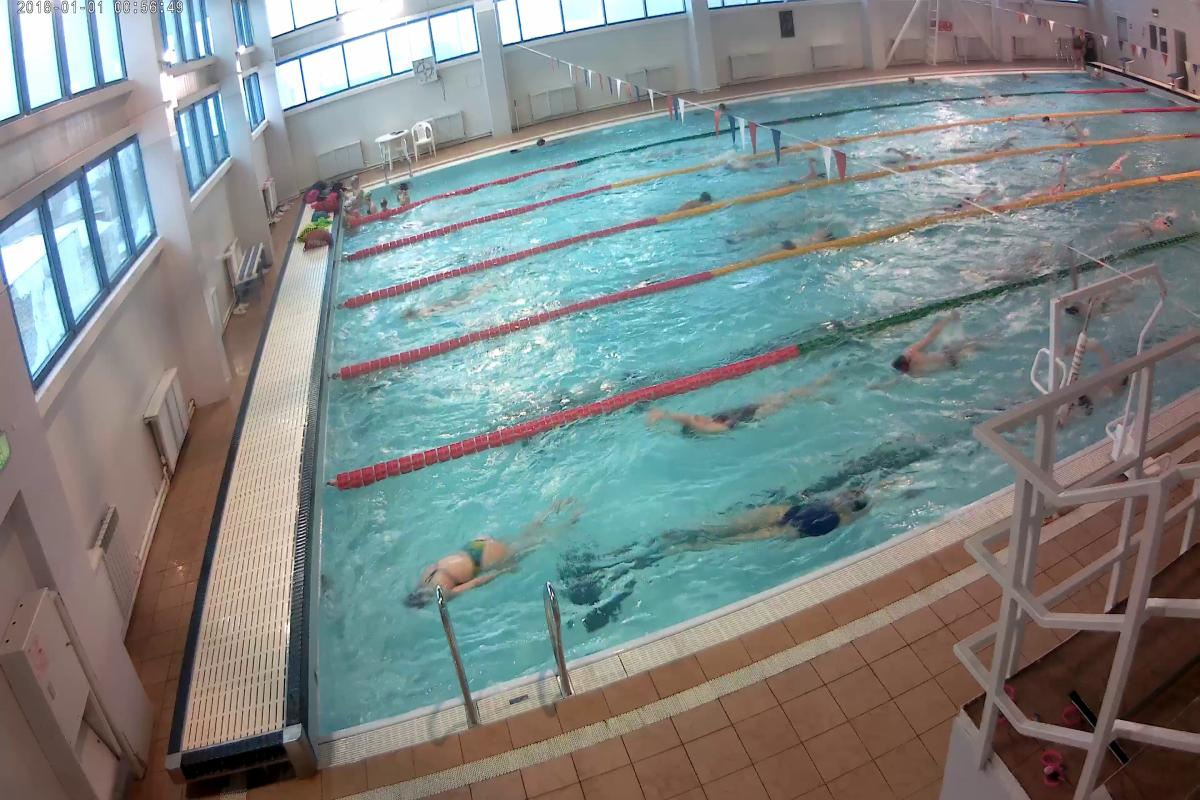swimmer: (653, 372, 835, 437), (708, 481, 877, 550), (393, 525, 536, 603), (892, 318, 987, 392), (1124, 208, 1182, 246), (1082, 146, 1138, 182), (767, 226, 836, 250), (1032, 164, 1076, 195), (676, 187, 717, 216), (791, 151, 824, 182), (1035, 112, 1067, 130)
